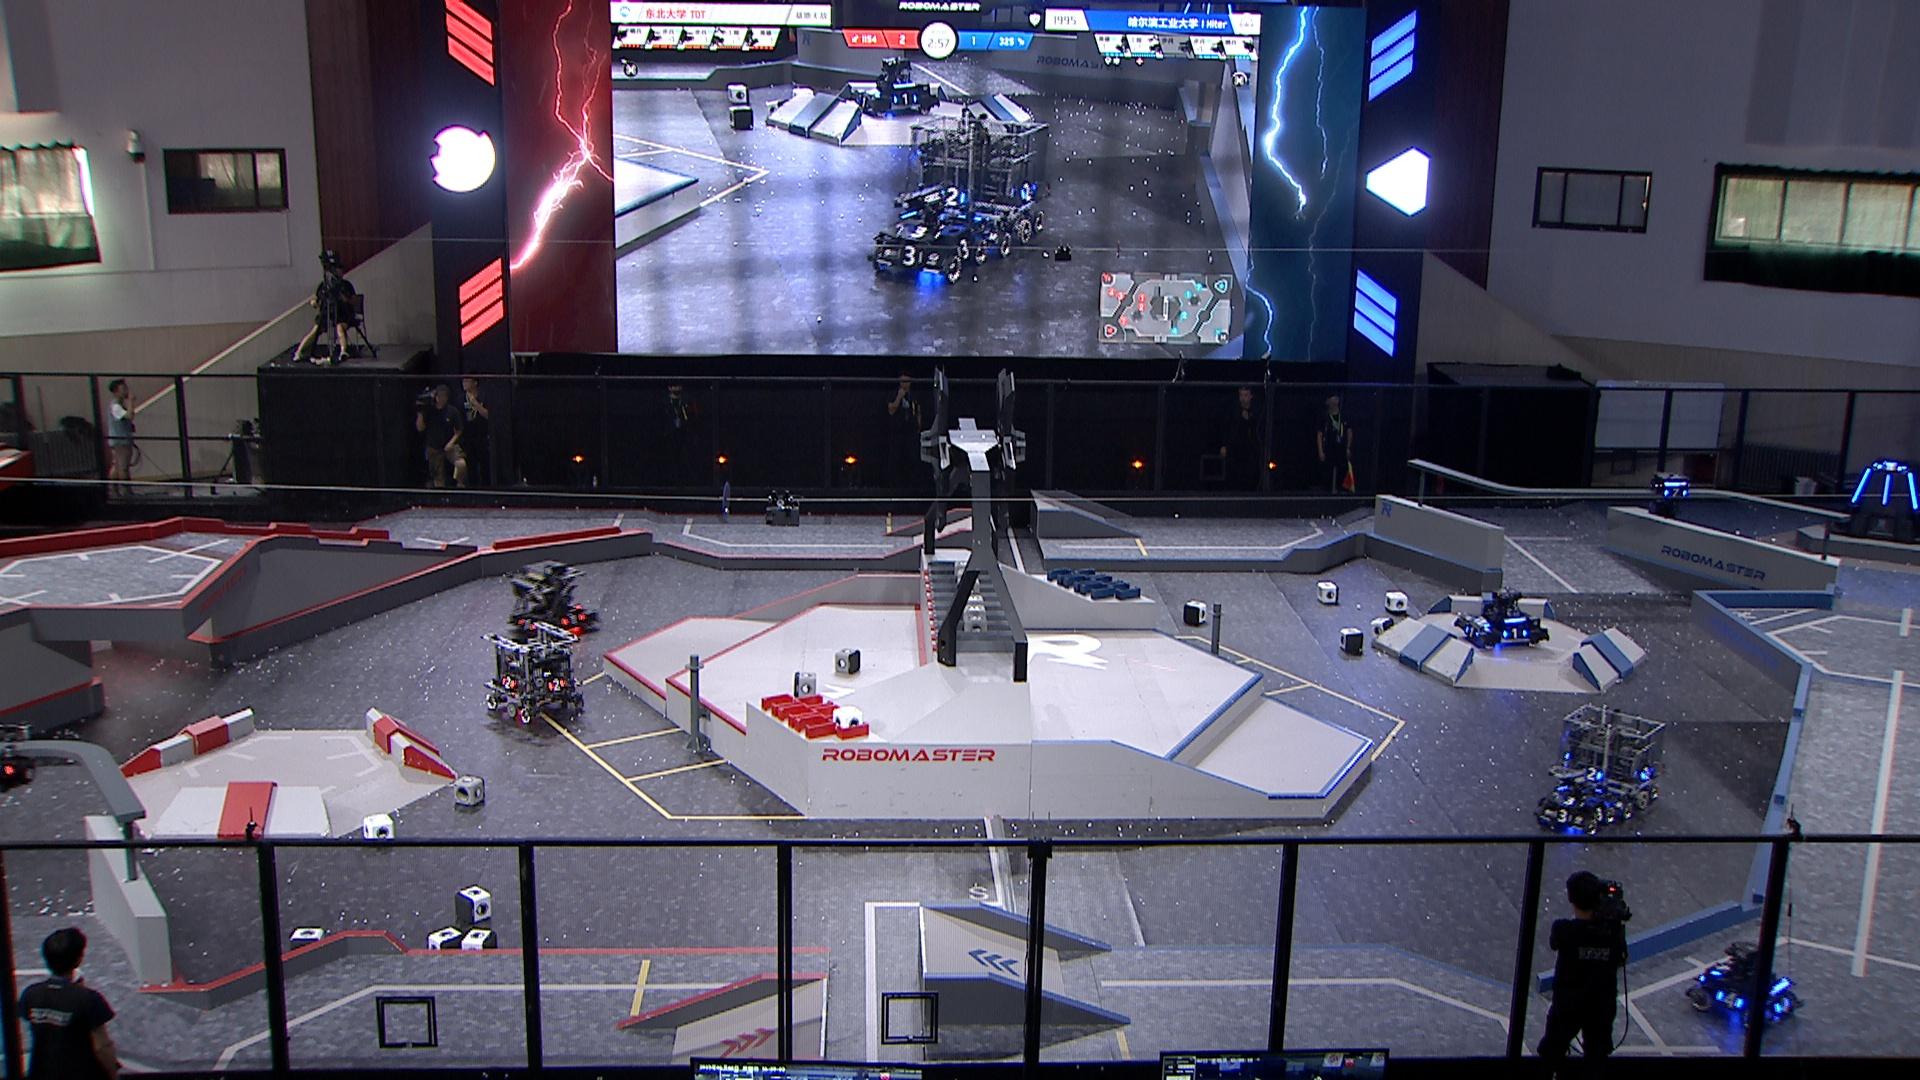armor: (1850, 465, 1874, 505), (1716, 988, 1745, 1010), (1905, 469, 1920, 512), (1882, 473, 1894, 508), (1501, 626, 1528, 641), (1706, 959, 1727, 977), (1662, 487, 1691, 500), (543, 678, 567, 694), (1638, 764, 1656, 783), (560, 612, 585, 626), (498, 675, 520, 692), (1875, 462, 1904, 473), (514, 617, 538, 632), (1774, 997, 1792, 1015), (1552, 808, 1572, 825), (1584, 766, 1604, 783), (1557, 794, 1580, 807), (1462, 622, 1480, 638), (1592, 806, 1605, 823), (1474, 616, 1490, 628)
base: (1826, 458, 1920, 543)
car: (1547, 702, 1665, 823), (1685, 940, 1803, 1040), (480, 622, 588, 727), (504, 560, 599, 638), (1532, 764, 1619, 839), (1453, 585, 1551, 651)
ignore: (913, 109, 1050, 256), (868, 193, 992, 280), (847, 59, 944, 119), (1182, 0, 1237, 15)
watcher: (1648, 469, 1693, 514)
